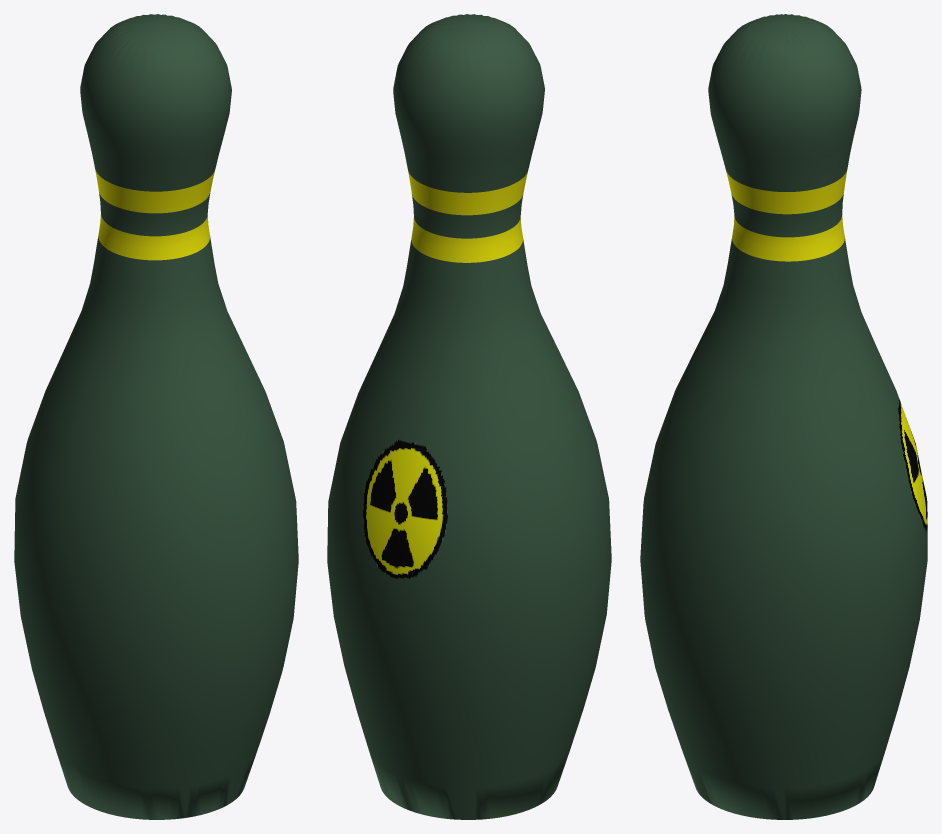
The model's file is Nuke Pin.fbx.
The picture shows the model from 3 angles, left to right: view 1: azimuth 30°, elevation 25°; view 2: azimuth 150°, elevation 25°; view 3: azimuth 270°, elevation 25°; orthographic projection.
Parts seen in each view (by area): view 1: Nuke Pin; view 2: Nuke Pin; view 3: Nuke Pin.
Part boxes in pixels (x1,y1,x2,y2): Nuke Pin: [14, 14, 298, 819]; Nuke Pin: [327, 14, 611, 819]; Nuke Pin: [640, 14, 927, 819].
Size of the model in its own units: 131 by 387 by 133.
1 material, 1 textured.
